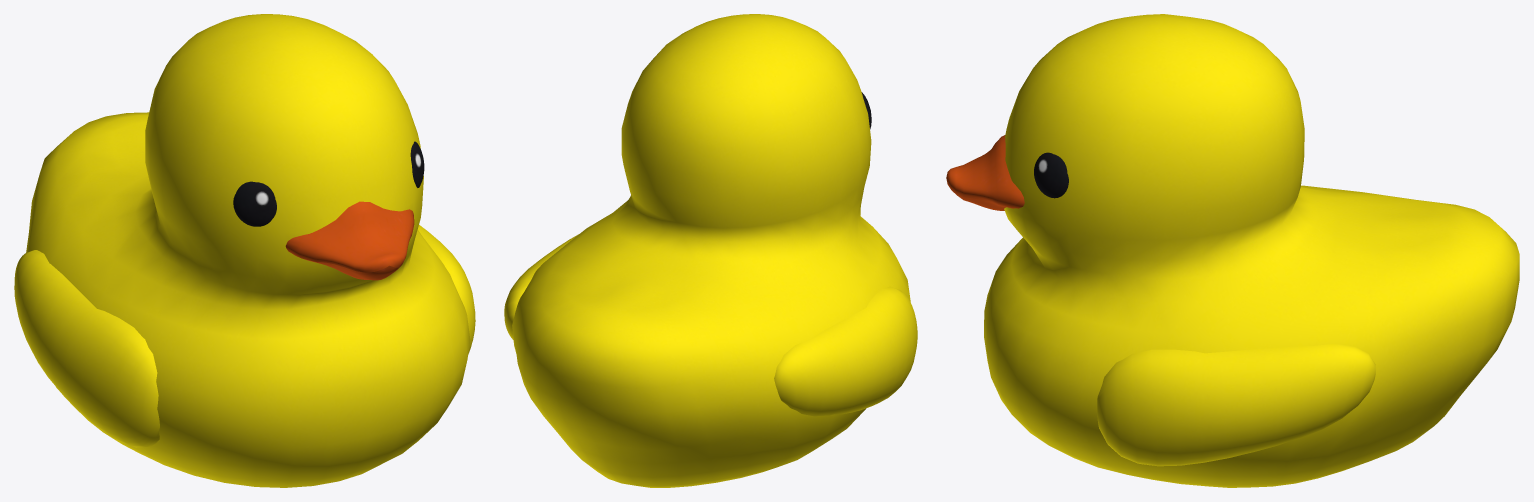
The model's file is rubberDuck.gltf.
3 renders of one model, left to right at view 1: azimuth 30°, elevation 25°; view 2: azimuth 150°, elevation 25°; view 3: azimuth 270°, elevation 25°, orthographic. The views are drawn at different scales.
Visible parts, largest first — view 1: Sphere001; view 2: Sphere001; view 3: Sphere001.
Part boxes in pixels (<box>): Sphere001: <box>14,14,475,487</box>; Sphere001: <box>504,14,917,487</box>; Sphere001: <box>946,14,1519,487</box>.
Bounding box in the file's own units: 272 × 297 × 354.
Materials: 1 (1 with a texture image).
